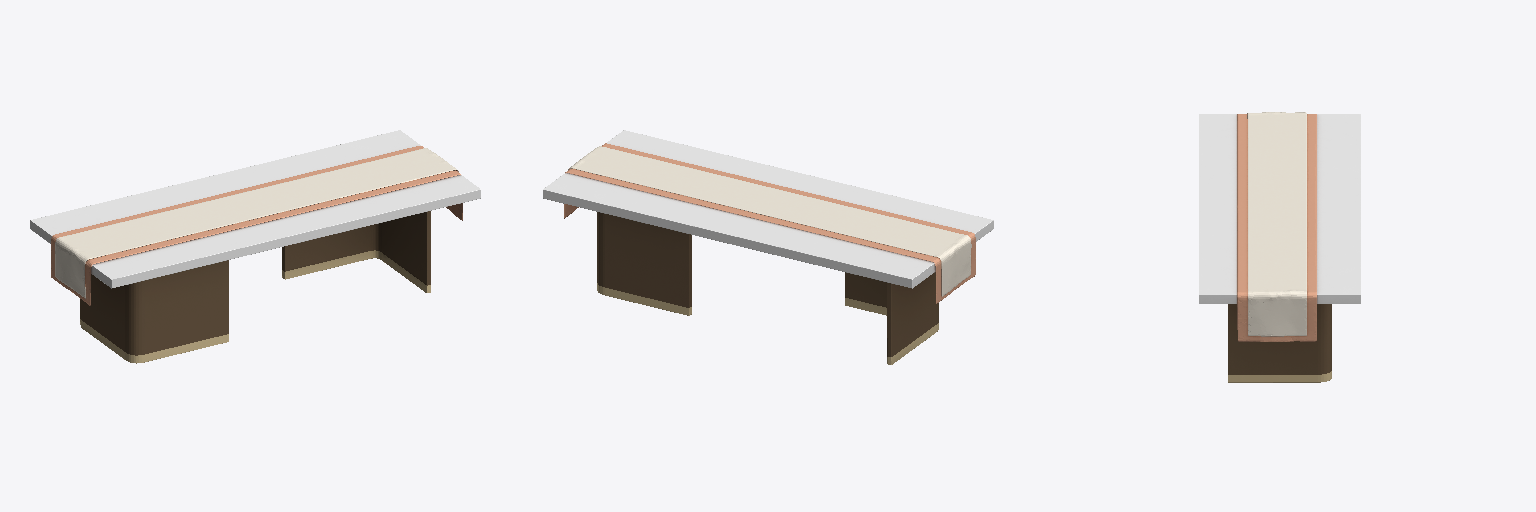
3 views of the same model, side by side, from view 1: azimuth 30°, elevation 25°; view 2: azimuth 150°, elevation 25°; view 3: azimuth 270°, elevation 25° (orthographic).
Parts seen in each view (by area): view 1: solid_005, solid_001, solid_003, solid_004, solid_002; view 2: solid_005, solid_003, solid_001, solid_004, solid_002; view 3: solid_005, solid_003, solid_004, solid_001, solid_002.
Boxes of the visible parts, <box> form: solid_005: <box>30,130,480,288</box>; solid_001: <box>80,211,430,355</box>; solid_003: <box>55,148,458,298</box>; solid_004: <box>51,146,462,305</box>; solid_002: <box>80,250,430,363</box>; solid_005: <box>543,130,993,288</box>; solid_003: <box>568,146,971,296</box>; solid_001: <box>597,212,938,356</box>; solid_004: <box>564,143,975,303</box>; solid_002: <box>597,283,938,364</box>; solid_005: <box>1199,114,1360,303</box>; solid_003: <box>1247,112,1306,336</box>; solid_004: <box>1237,114,1316,341</box>; solid_001: <box>1228,304,1331,374</box>; solid_002: <box>1228,371,1331,382</box>.
Size of the model in its own units: 2.63 by 0.7229 by 0.9877.
Materials: 1 (1 with a texture image).